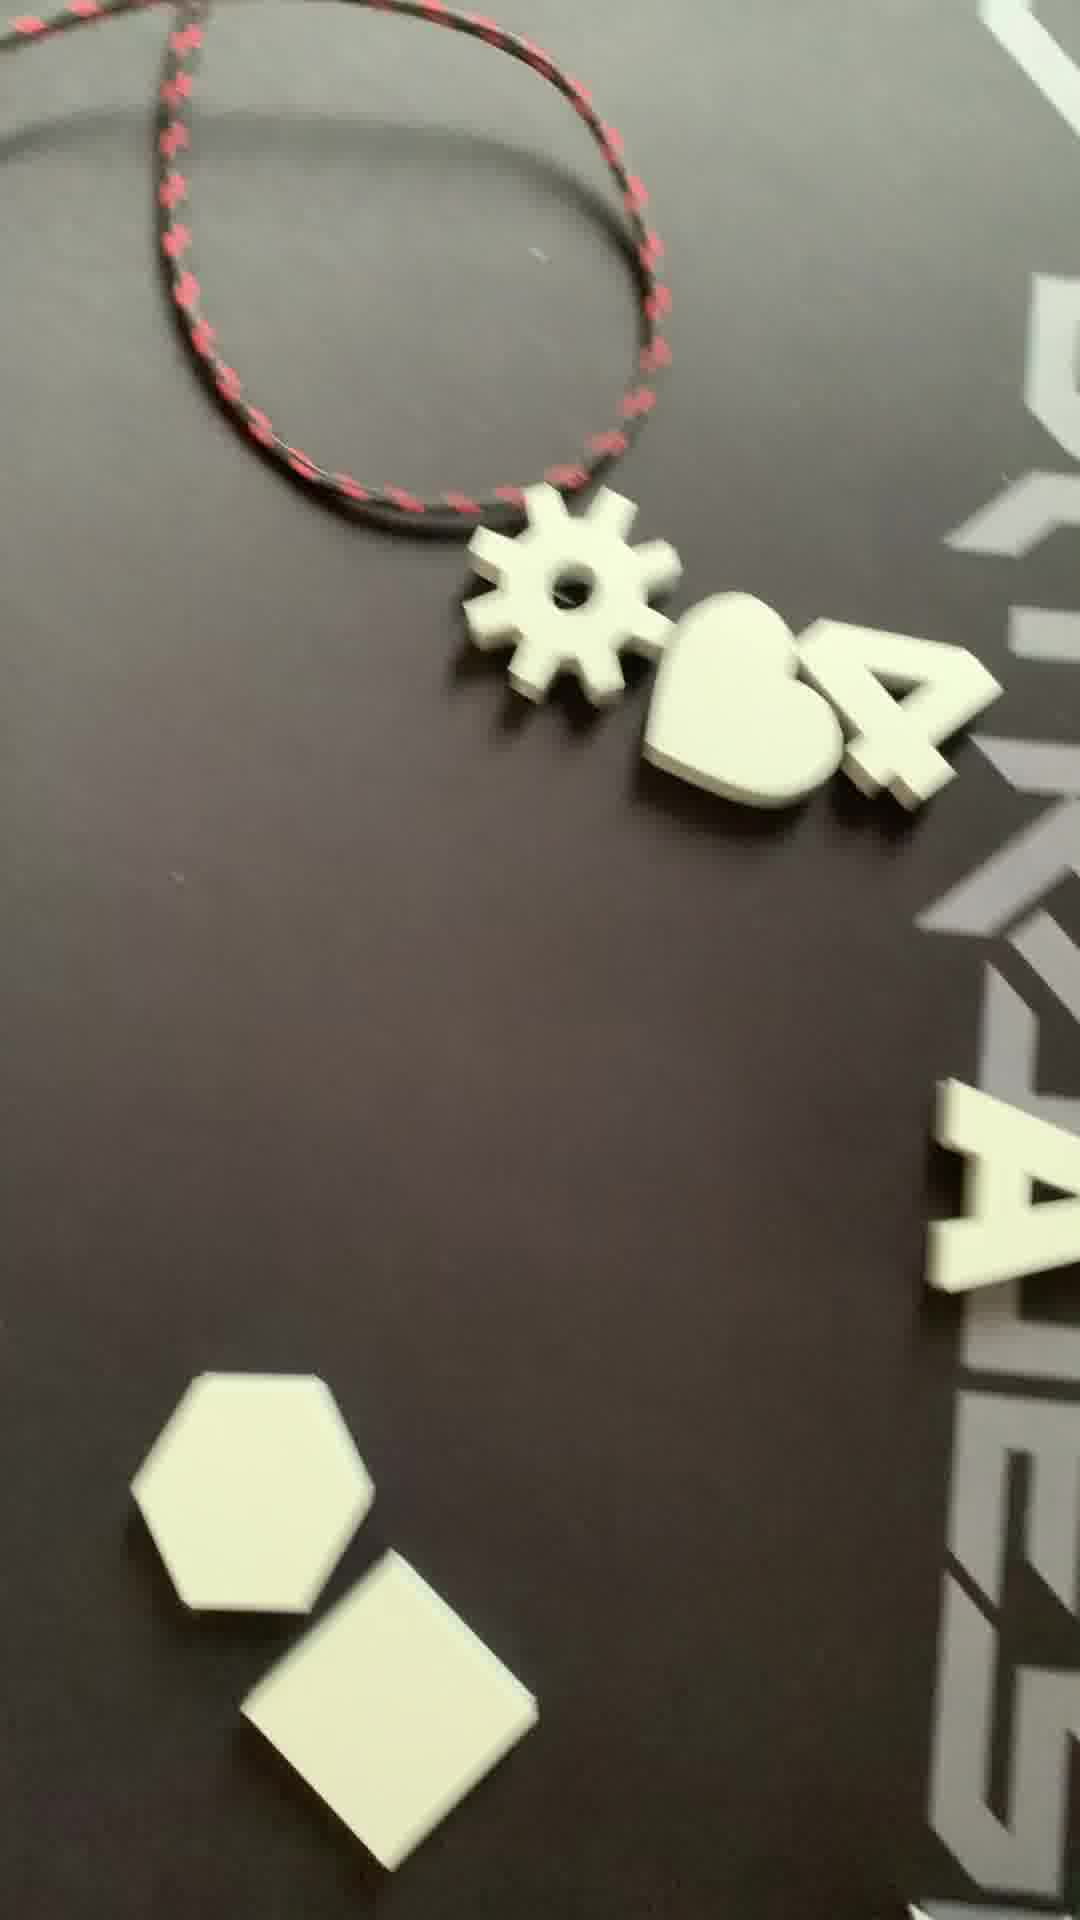Gray A-letter: (911, 1073, 1080, 1308)
Gray four: (794, 615, 1004, 806)
Gray gear: (456, 463, 694, 713)
Gray heart: (636, 582, 849, 829)
Gray hexagon: (121, 1357, 392, 1629)
Gray square: (247, 1559, 543, 1875)
